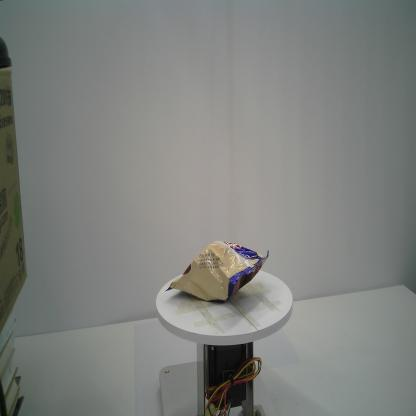Dessert: (164, 239, 270, 302)
